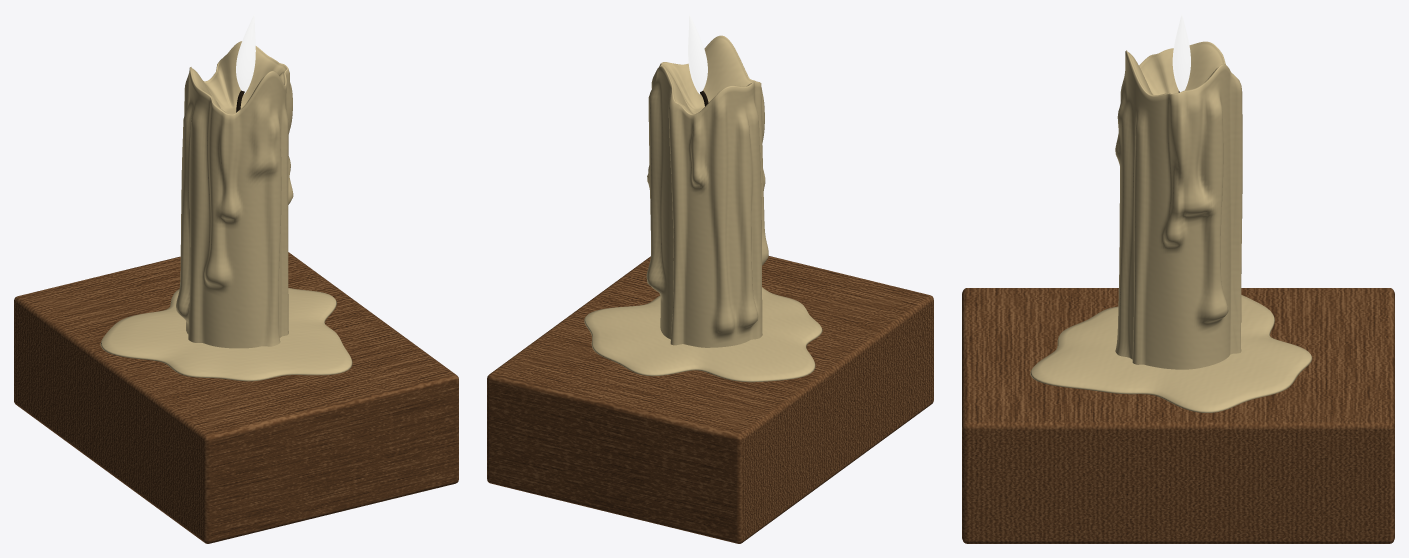
The model's file is cirio_5.gltf.
3 renders of one model, left to right at view 1: azimuth 30°, elevation 25°; view 2: azimuth 150°, elevation 25°; view 3: azimuth 270°, elevation 25°, orthographic. The views are drawn at different scales.
Parts seen in each view (by area): view 1: base_madera_individual, cera_5, cera_acumulada_5, llama_5; view 2: base_madera_individual, cera_5, cera_acumulada_5, llama_5; view 3: base_madera_individual, cera_5, cera_acumulada_5, llama_5.
Boxes of the visible parts, bbox=[...] form: base_madera_individual: bbox=[14, 252, 458, 543]; cera_5: bbox=[176, 41, 293, 348]; cera_acumulada_5: bbox=[100, 288, 352, 381]; llama_5: bbox=[236, 14, 255, 93]; base_madera_individual: bbox=[487, 256, 933, 543]; cera_5: bbox=[646, 35, 768, 347]; cera_acumulada_5: bbox=[584, 287, 822, 382]; llama_5: bbox=[688, 14, 707, 94]; base_madera_individual: bbox=[962, 288, 1394, 543]; cera_5: bbox=[1115, 41, 1242, 369]; cera_acumulada_5: bbox=[1030, 295, 1312, 412]; llama_5: bbox=[1172, 14, 1190, 92].
Size of the model in its own units: 0.11 by 0.175 by 0.145.
4 materials, 2 textured.
